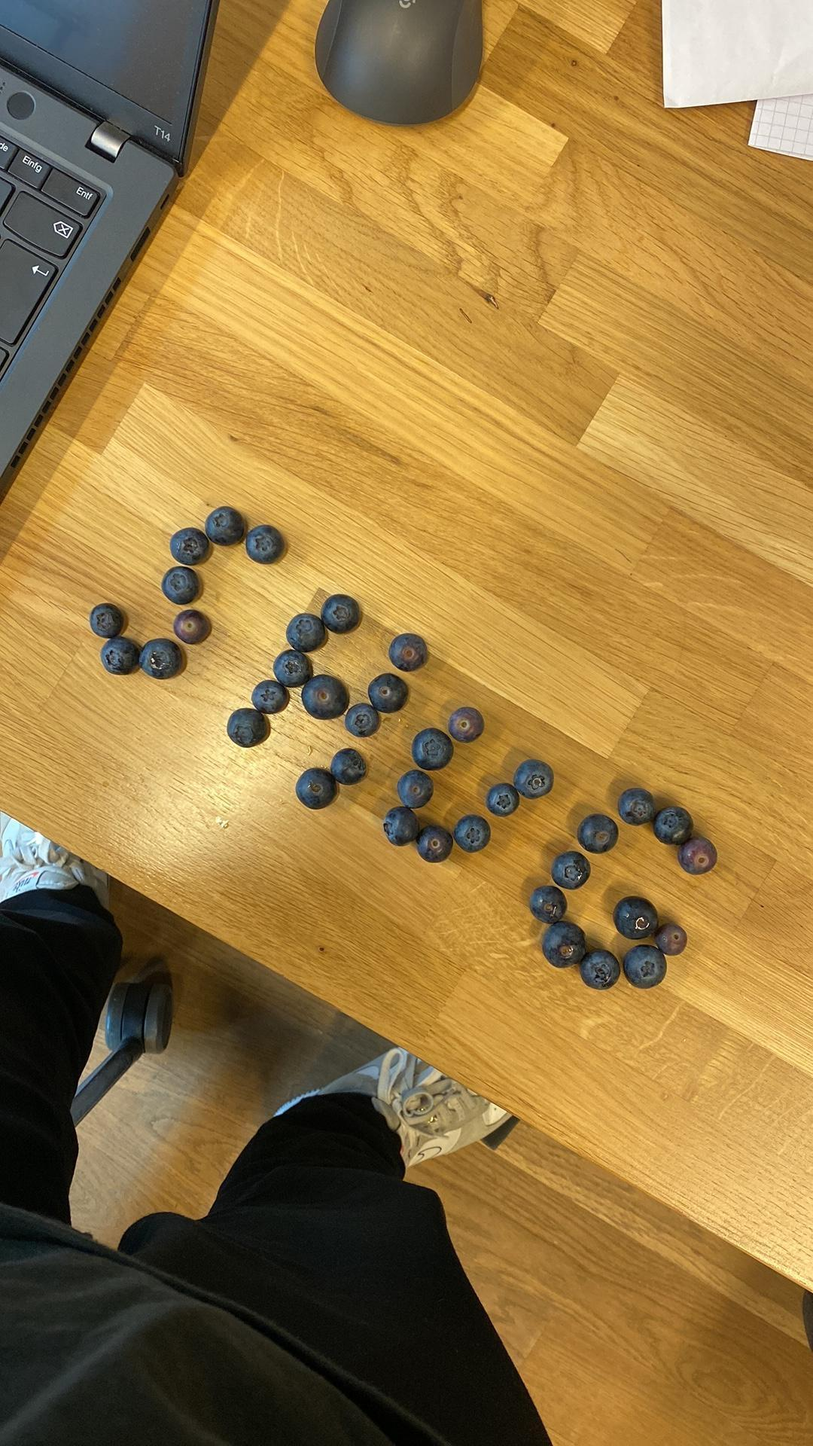blueberry: (300, 670, 352, 723), (614, 894, 661, 939), (653, 803, 698, 848), (365, 671, 411, 714), (544, 919, 586, 966), (224, 707, 272, 747), (166, 525, 213, 564), (138, 638, 184, 677), (204, 502, 245, 545), (379, 807, 422, 848), (414, 726, 454, 770), (627, 943, 664, 990), (296, 767, 338, 808), (579, 813, 621, 854), (271, 647, 315, 686), (514, 758, 554, 800), (416, 822, 455, 865), (551, 850, 594, 889), (676, 835, 719, 873), (529, 883, 569, 923), (245, 523, 286, 562), (330, 745, 369, 786), (159, 566, 202, 603), (100, 636, 140, 675), (321, 593, 361, 631), (397, 771, 437, 809), (582, 953, 623, 989), (454, 815, 492, 852), (288, 612, 325, 649), (172, 607, 210, 642), (620, 786, 654, 825), (254, 678, 289, 714), (391, 633, 425, 670), (449, 705, 484, 739), (89, 602, 121, 638), (488, 781, 519, 818), (345, 705, 381, 735), (654, 923, 690, 953)
